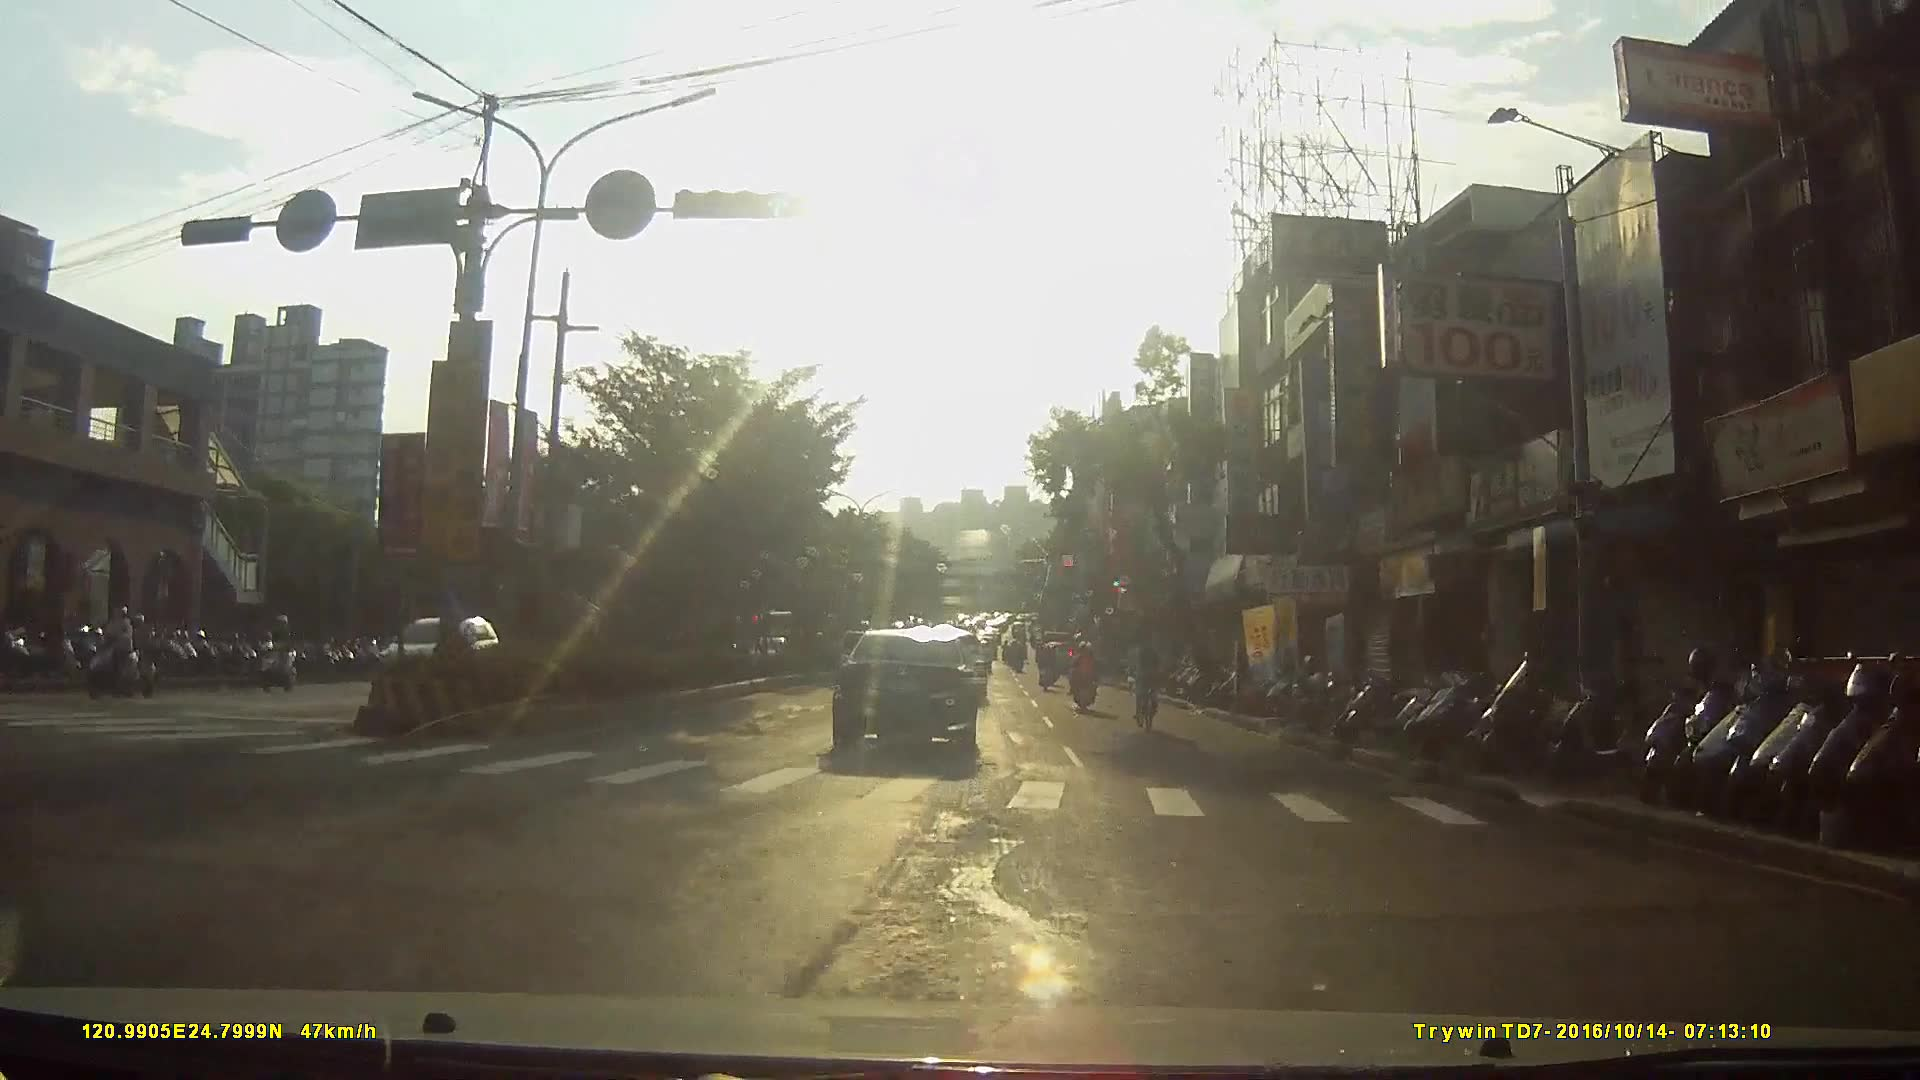rider: (75, 598, 147, 694), (1127, 617, 1169, 718), (261, 613, 300, 692), (1072, 640, 1100, 715), (1034, 640, 1061, 695)
vehicle: (835, 609, 992, 754)
